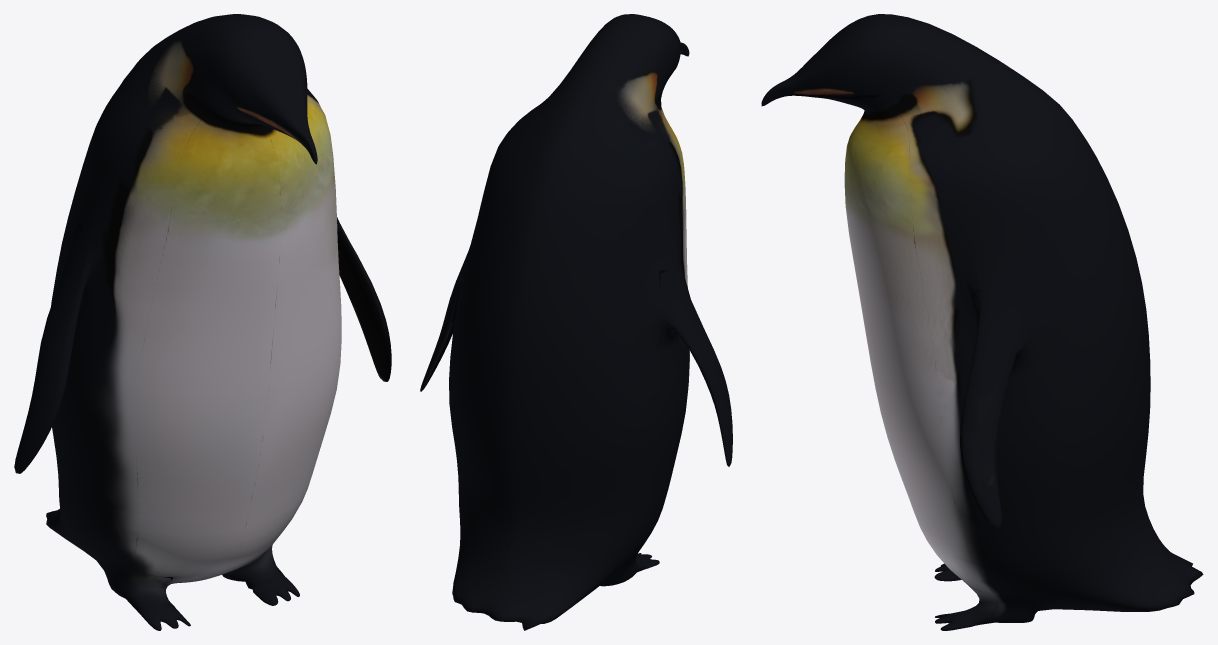
The picture shows the model from 3 angles, left to right: view 1: azimuth 30°, elevation 25°; view 2: azimuth 150°, elevation 25°; view 3: azimuth 270°, elevation 25°; orthographic projection. The views are drawn at different scales.
Visible parts, largest first — view 1: Penguin; view 2: Penguin; view 3: Penguin.
Part boxes in pixels (left/top/right/bottom): Penguin: left=14, top=14, right=391, bottom=630; Penguin: left=420, top=14, right=732, bottom=630; Penguin: left=761, top=14, right=1203, bottom=630.
Bounding box in the file's own units: 74.9 × 119 × 82.6.
Materials: 1 (1 with a texture image).
